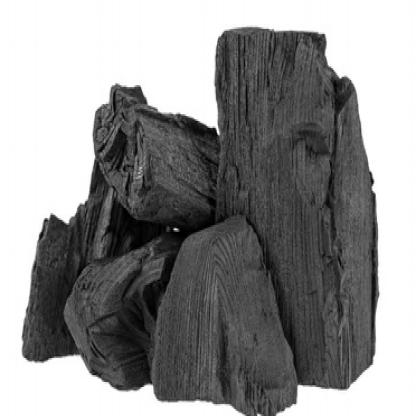Sedimentary_coal: (210, 19, 392, 388), (154, 227, 300, 414), (83, 61, 221, 216), (18, 191, 97, 367), (62, 244, 164, 372)
